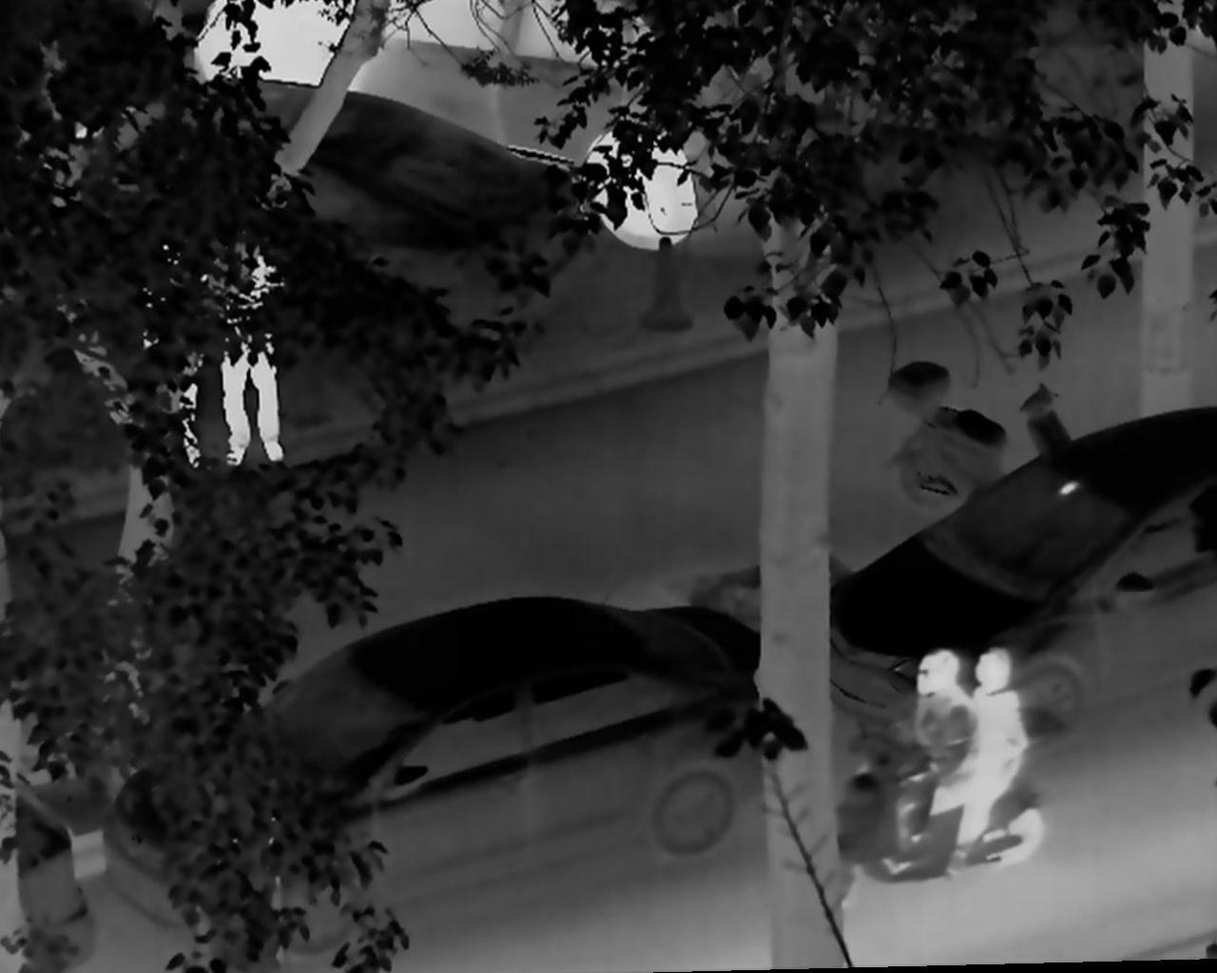person: (865, 643, 976, 880), (200, 217, 300, 473), (929, 639, 1031, 882), (126, 231, 221, 486)
